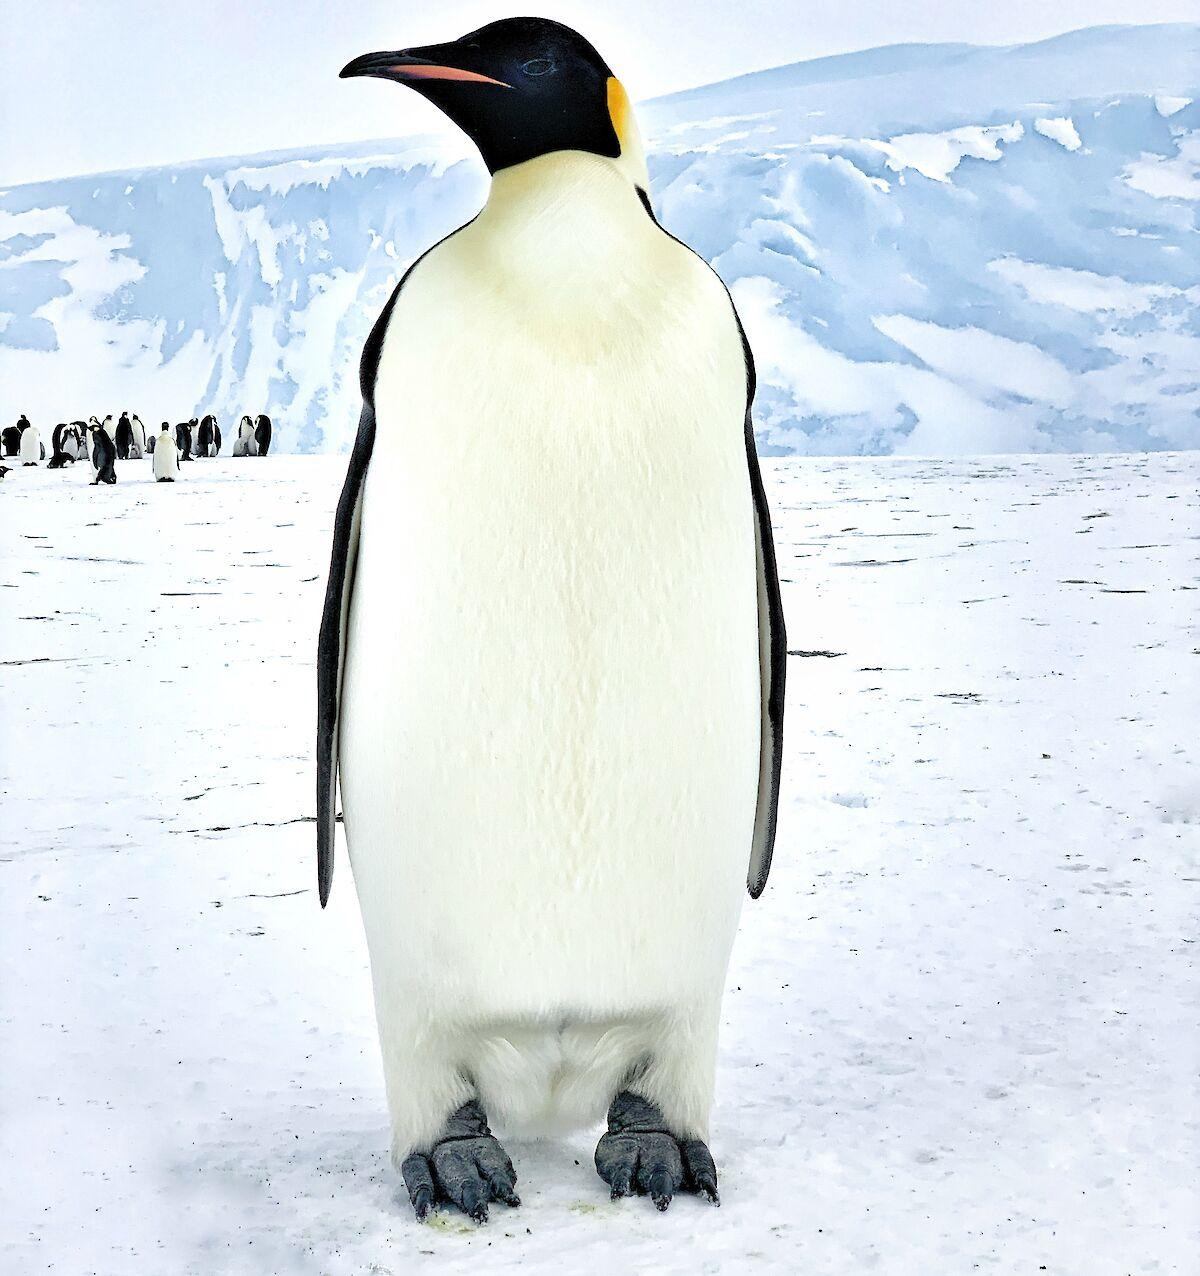emporer: (266, 0, 821, 1229)
